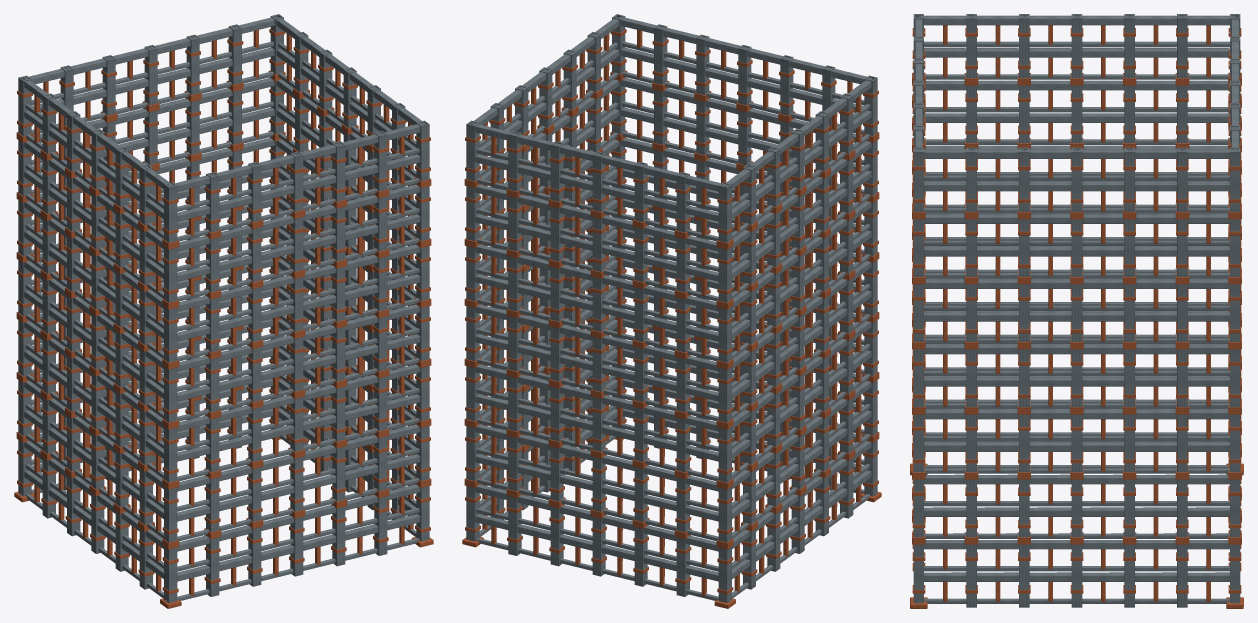
The picture shows the model from 3 angles, left to right: view 1: azimuth 30°, elevation 25°; view 2: azimuth 150°, elevation 25°; view 3: azimuth 270°, elevation 25°; orthographic projection. The views are drawn at different scales.
Visible parts, largest first — view 1: Tier 6 side 0 post 0, Tier 0 side 0 post 0, Tier 5 side 0 post 0, Tier 1 side 0 post 0, Tier 4 side 0 post 0, Tier 2 side 0 post 0, Tier 3 side 0 post 0, Tier 6 side 0 post 5, Tier 6 side 0 post 1, Tier 6 side 0 post 2, Tier 6 side 1 post 0, Tier 6 side 0 post 4 (+53 smaller); view 2: Tier 6 side 3 post 0, Tier 0 side 3 post 0, Tier 1 side 3 post 0, Tier 4 side 3 post 0, Tier 5 side 3 post 0, Tier 2 side 3 post 0, Tier 3 side 3 post 0, Tier 6 side 2 post 4, Tier 6 side 2 post 0, Tier 6 side 2 post 1, Tier 6 side 2 post 5, Tier 0 side 2 post 5 (+51 smaller); view 3: Tier 6 side 1 post 3, Tier 6 side 3 post 3, Tier 0 side 1 post 3, Tier 6 side 1 post 1, Tier 6 side 1 post 2, Tier 6 side 1 post 4, Tier 6 side 1 post 5, Tier 6 side 3 post 1, Tier 6 side 3 post 2, Tier 6 side 3 post 4, Tier 6 side 3 post 5, Tier 0 side 1 post 1 (+66 smaller).
Part boxes in pixels (<box>): Tier 6 side 0 post 0: <box>164,182,177,242</box>; Tier 0 side 0 post 0: <box>164,546,177,602</box>; Tier 5 side 0 post 0: <box>164,247,177,302</box>; Tier 1 side 0 post 0: <box>164,487,177,542</box>; Tier 4 side 0 post 0: <box>164,307,177,362</box>; Tier 2 side 0 post 0: <box>164,427,177,482</box>; Tier 3 side 0 post 0: <box>164,367,177,422</box>; Tier 6 side 0 post 5: <box>374,131,387,191</box>; Tier 6 side 0 post 1: <box>206,172,219,232</box>; Tier 6 side 0 post 2: <box>248,161,261,222</box>; Tier 6 side 1 post 0: <box>416,120,429,181</box>; Tier 6 side 0 post 4: <box>332,141,345,201</box>; Tier 6 side 3 post 0: <box>718,182,731,242</box>; Tier 0 side 3 post 0: <box>718,546,731,602</box>; Tier 1 side 3 post 0: <box>718,487,731,542</box>; Tier 4 side 3 post 0: <box>718,307,731,362</box>; Tier 5 side 3 post 0: <box>718,247,731,302</box>; Tier 2 side 3 post 0: <box>718,427,731,482</box>; Tier 3 side 3 post 0: <box>718,367,731,422</box>; Tier 6 side 2 post 4: <box>634,161,647,222</box>; Tier 6 side 2 post 0: <box>466,120,479,181</box>; Tier 6 side 2 post 1: <box>508,131,521,191</box>; Tier 6 side 2 post 5: <box>676,172,689,232</box>; Tier 0 side 2 post 5: <box>676,537,689,596</box>; Tier 6 side 1 post 3: <box>1071,147,1082,211</box>; Tier 6 side 3 post 3: <box>1071,14,1082,78</box>; Tier 0 side 1 post 3: <box>1071,544,1082,607</box>; Tier 6 side 1 post 1: <box>966,147,976,211</box>; Tier 6 side 1 post 2: <box>1019,147,1029,211</box>; Tier 6 side 1 post 4: <box>1124,147,1134,211</box>; Tier 6 side 1 post 5: <box>1177,147,1187,211</box>; Tier 6 side 3 post 1: <box>1177,14,1187,78</box>; Tier 6 side 3 post 2: <box>1124,14,1134,78</box>; Tier 6 side 3 post 4: <box>1019,14,1029,78</box>; Tier 6 side 3 post 5: <box>966,14,976,78</box>; Tier 0 side 1 post 1: <box>966,544,976,607</box>.
Bounding box in the file's own units: 2.85 × 4.29 × 2.85.
2 materials, 2 textured.
